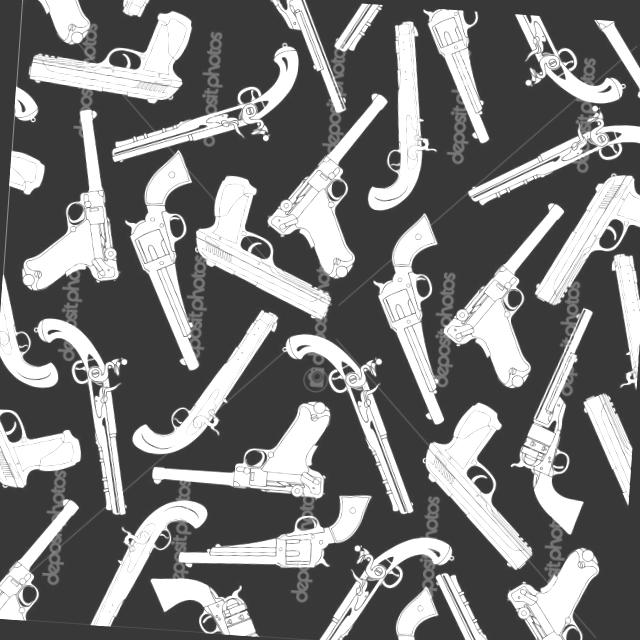handgun: (438, 186, 582, 410), (264, 81, 390, 304), (18, 310, 145, 520), (167, 462, 372, 592), (186, 169, 346, 328), (10, 97, 130, 306), (147, 376, 335, 506), (413, 397, 543, 583), (24, 0, 216, 115), (364, 199, 461, 423), (112, 157, 211, 376), (530, 164, 639, 316), (143, 556, 270, 631)
